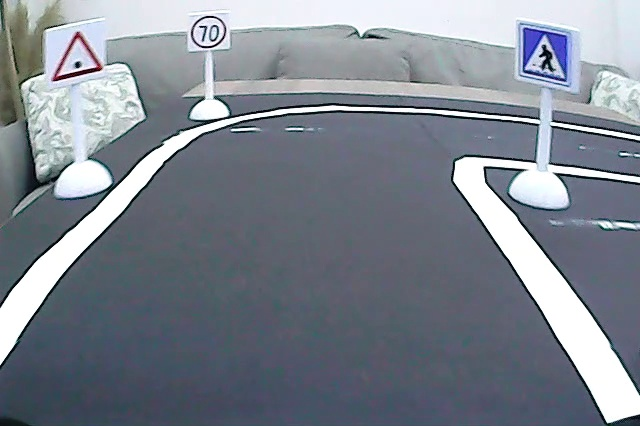green light: (49, 24, 105, 86)
pedestrian crossing: (518, 22, 575, 89)
speed limit 70: (189, 13, 229, 49)
